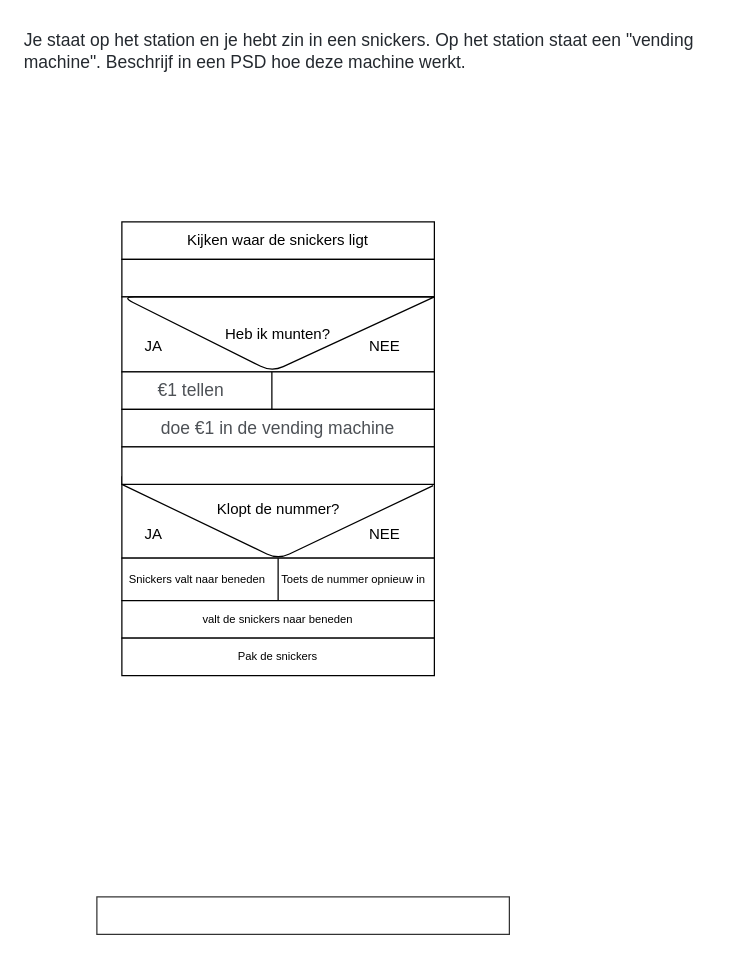
Image size: 730x956. Some labels were removed from this diagram. Here are the shapes that lost their labels. From the top down, the centre of each, then its label:
point 277,277: Kijken wat het kost (in dit geval €1)
point 277,465: intoets de nummer van de snickers
point 302,915: ik heb de snickers
